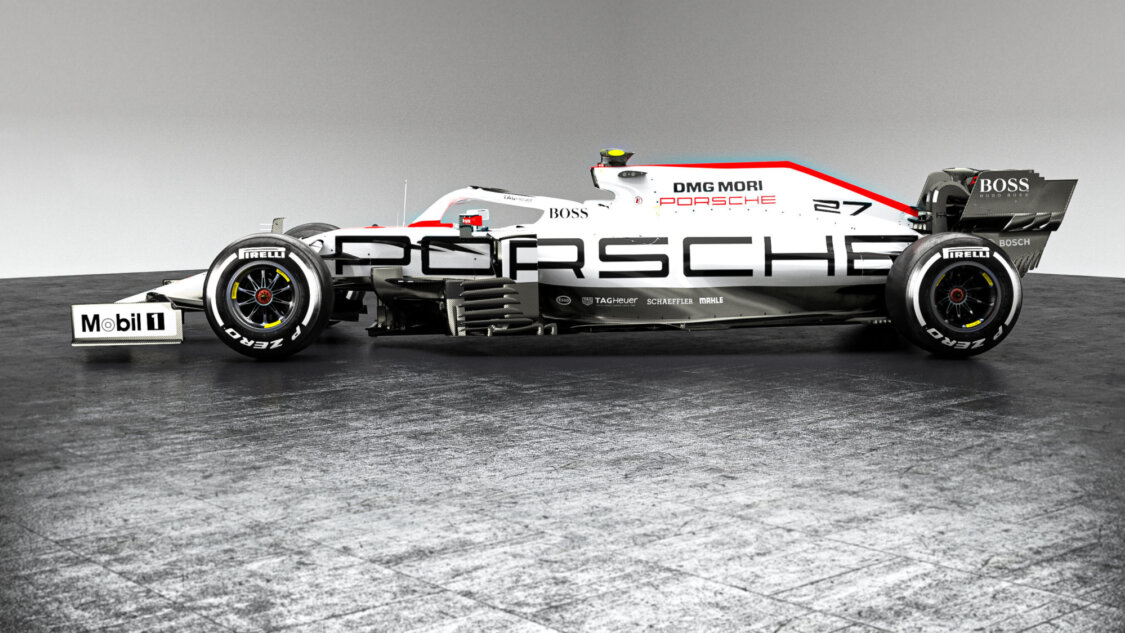Formule 1: (69, 151, 1077, 353)
